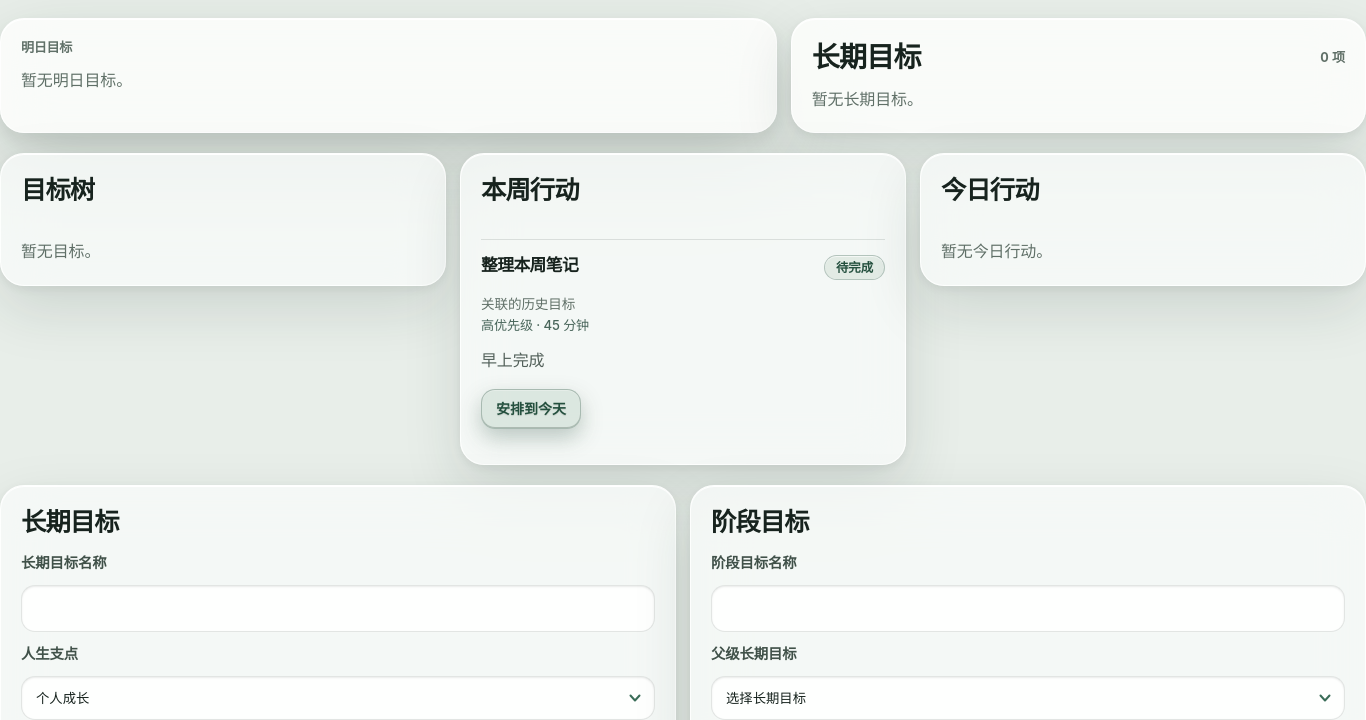
Test: PlanningWorkspace › derives a today action from a weekly action and then disables the duplicate control
What coordinates should you click on to do the following:
click the button with aria-label "安排到今天：整理本周笔记"
I would click on:
 (531, 409)
Its box is x1=481 y1=389 x2=581 y2=429.
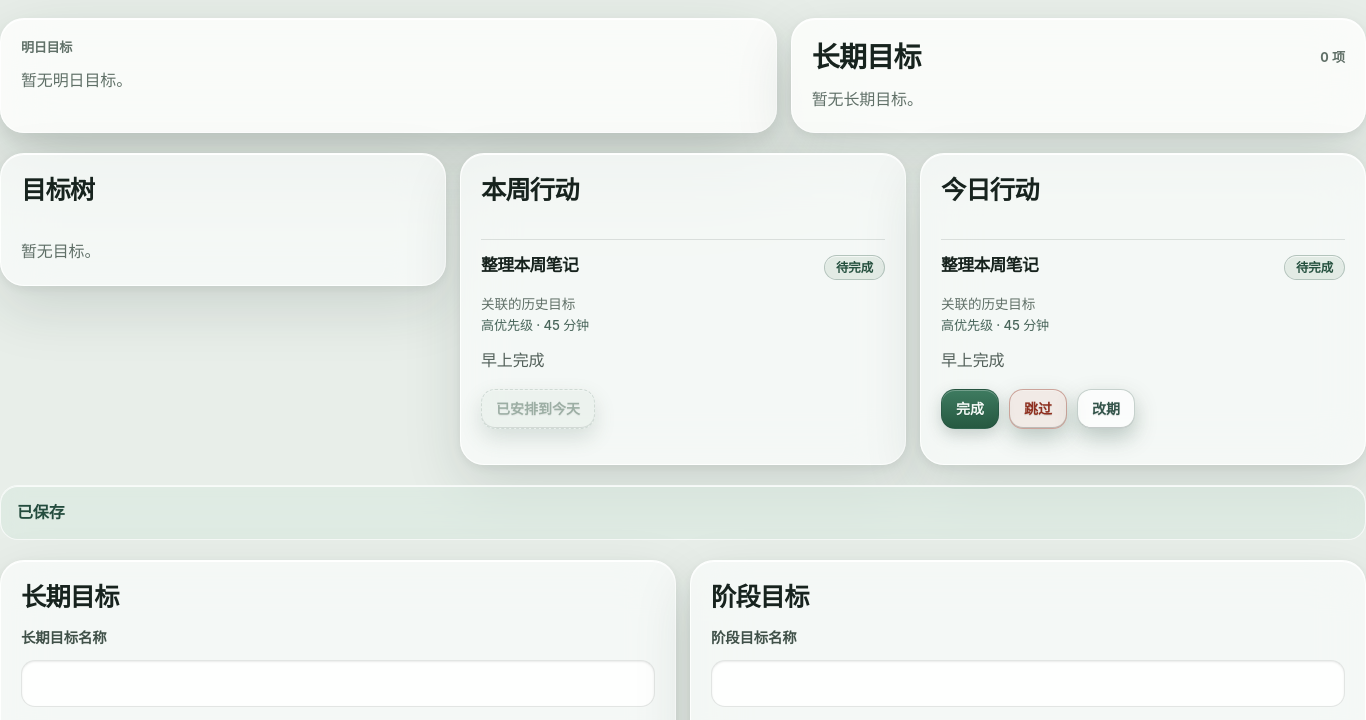
Now the button with aria-label "已安排到今天：整理本周笔记" is disabled, box x1=481 y1=389 x2=595 y2=429
